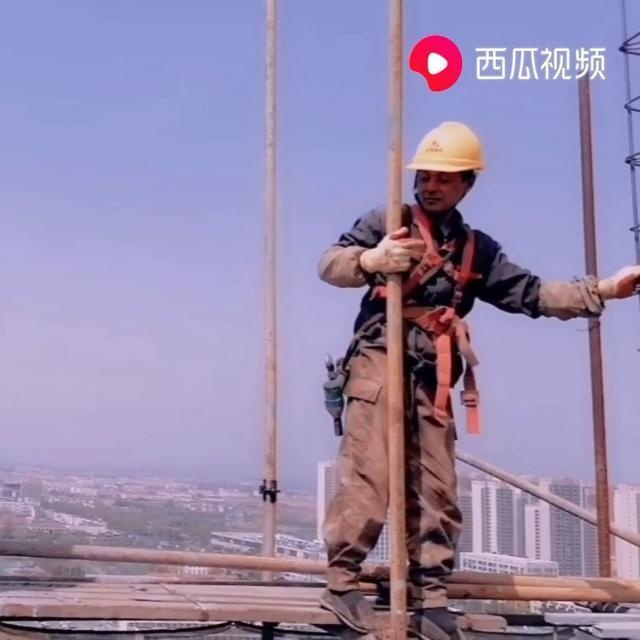Arnes_seguridad: (372, 197, 483, 350)
